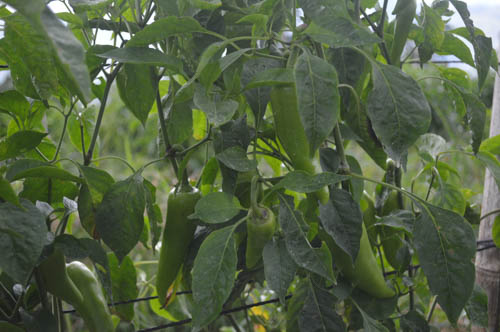ChiliPepper: (274, 83, 325, 197), (156, 190, 199, 302), (334, 232, 391, 296), (69, 261, 111, 327), (42, 257, 80, 306), (246, 208, 272, 269)
